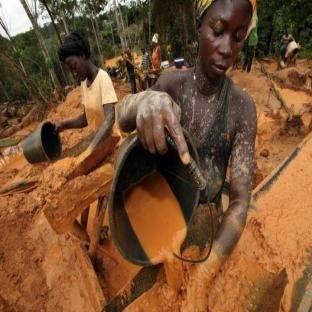Person: (119, 1, 267, 274), (37, 31, 116, 165), (148, 32, 165, 75), (124, 42, 138, 91)
